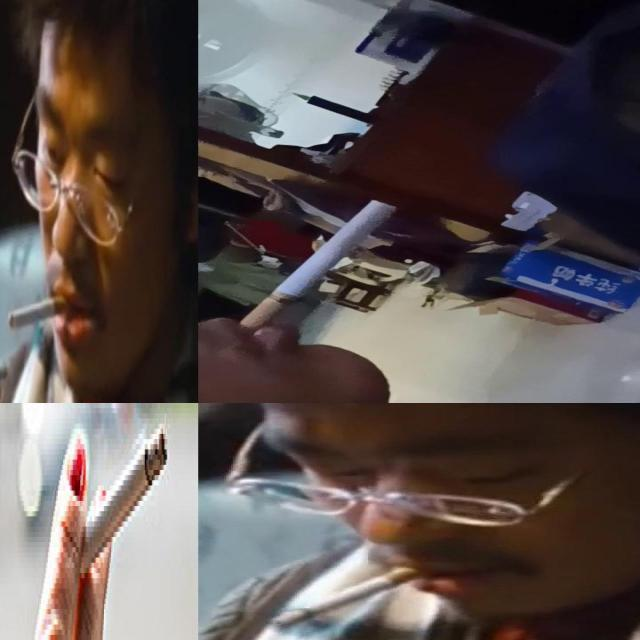smoking: (238, 197, 398, 330), (62, 419, 170, 591), (270, 564, 424, 628), (7, 290, 73, 330)
